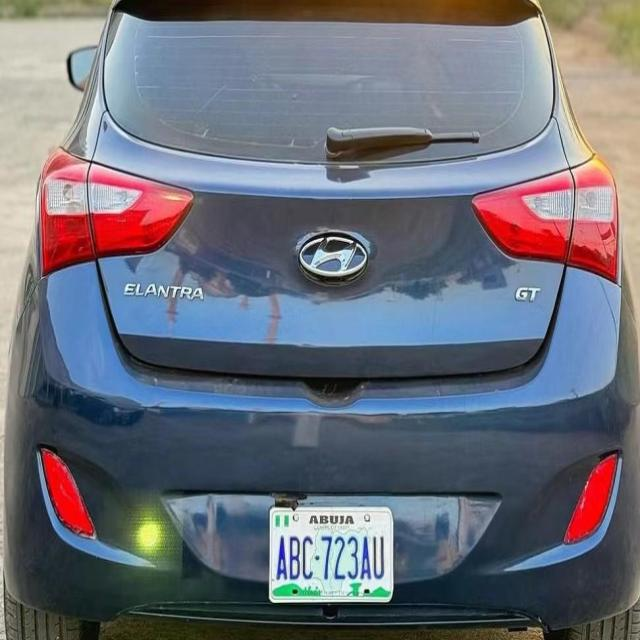Nigerian License Plate - vdataset benjamin-daria: (268, 504, 397, 607)
